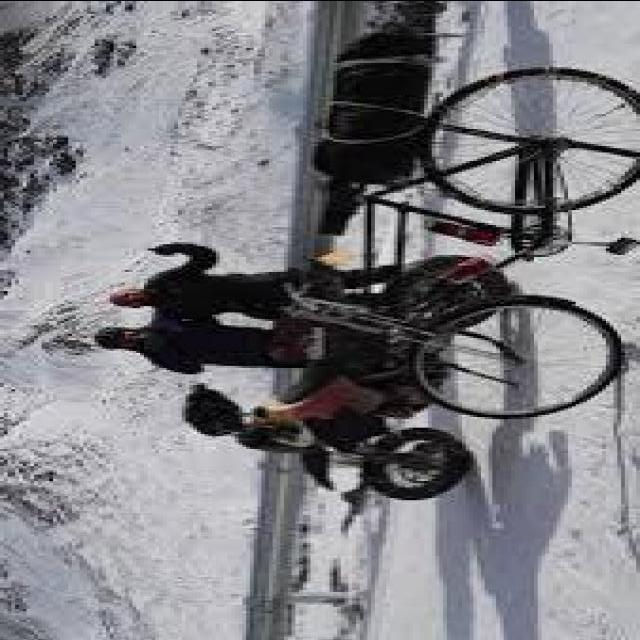bicycle: (273, 61, 640, 420)
